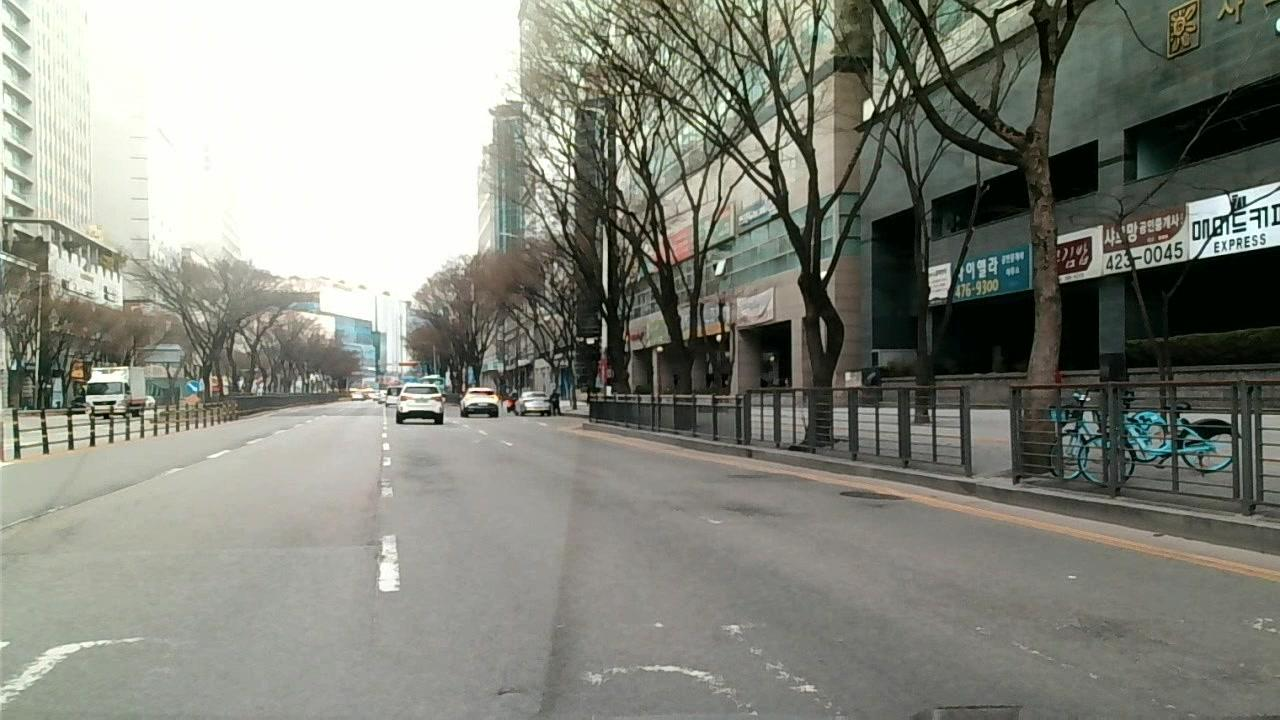banner: (1, 475, 153, 529), (1039, 601, 1165, 661)
